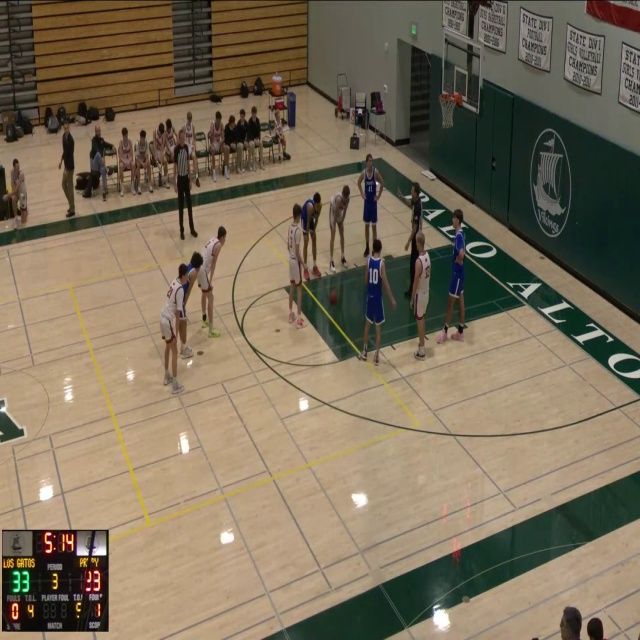Basketball: (329, 290, 337, 304)
